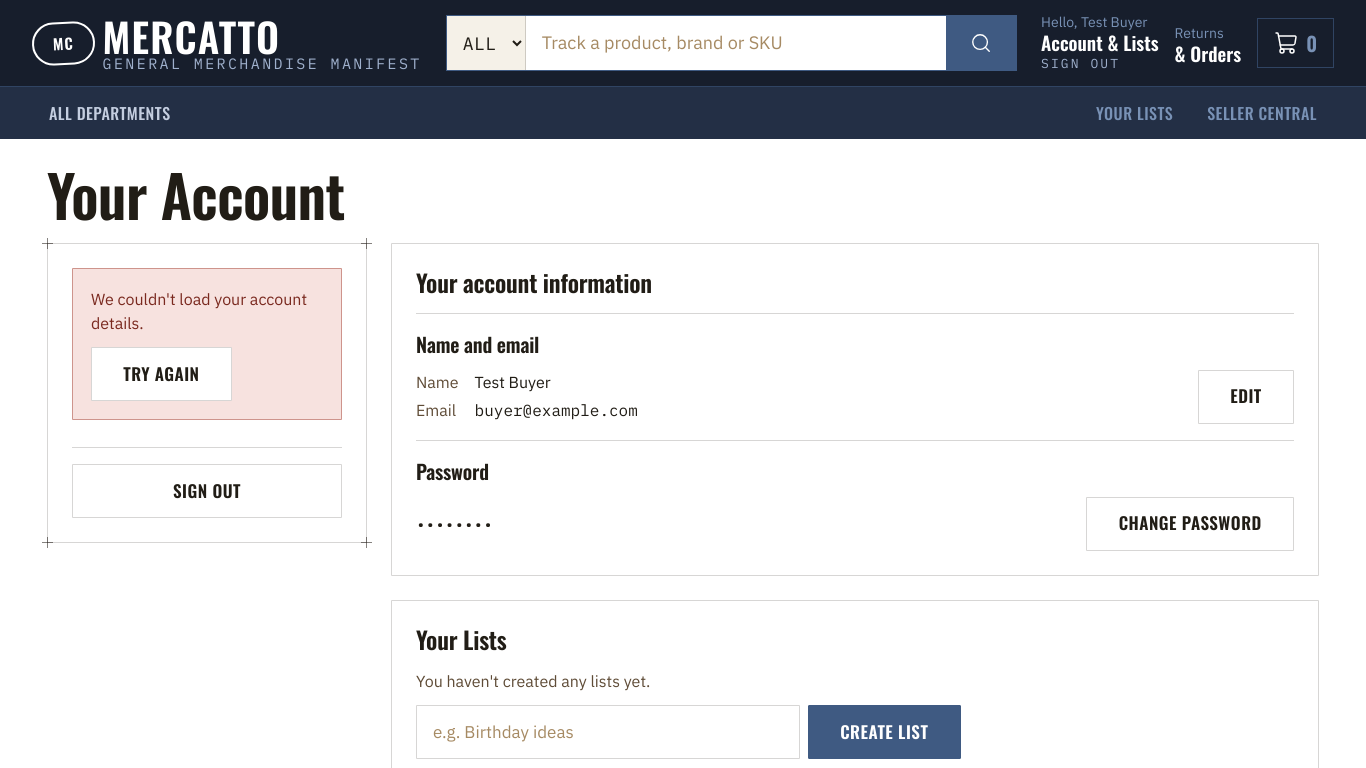
Test: Account page › shows an error when the profile fails to load and retries on demand
Expected: the message shows "We couldn't load your account details.", [91,289,307,333]
Expected: the button "Sign out" below "We couldn't load your account details." is shown, [72,464,342,518]
Click the button "Try again": (161, 374) [91,347,232,401]
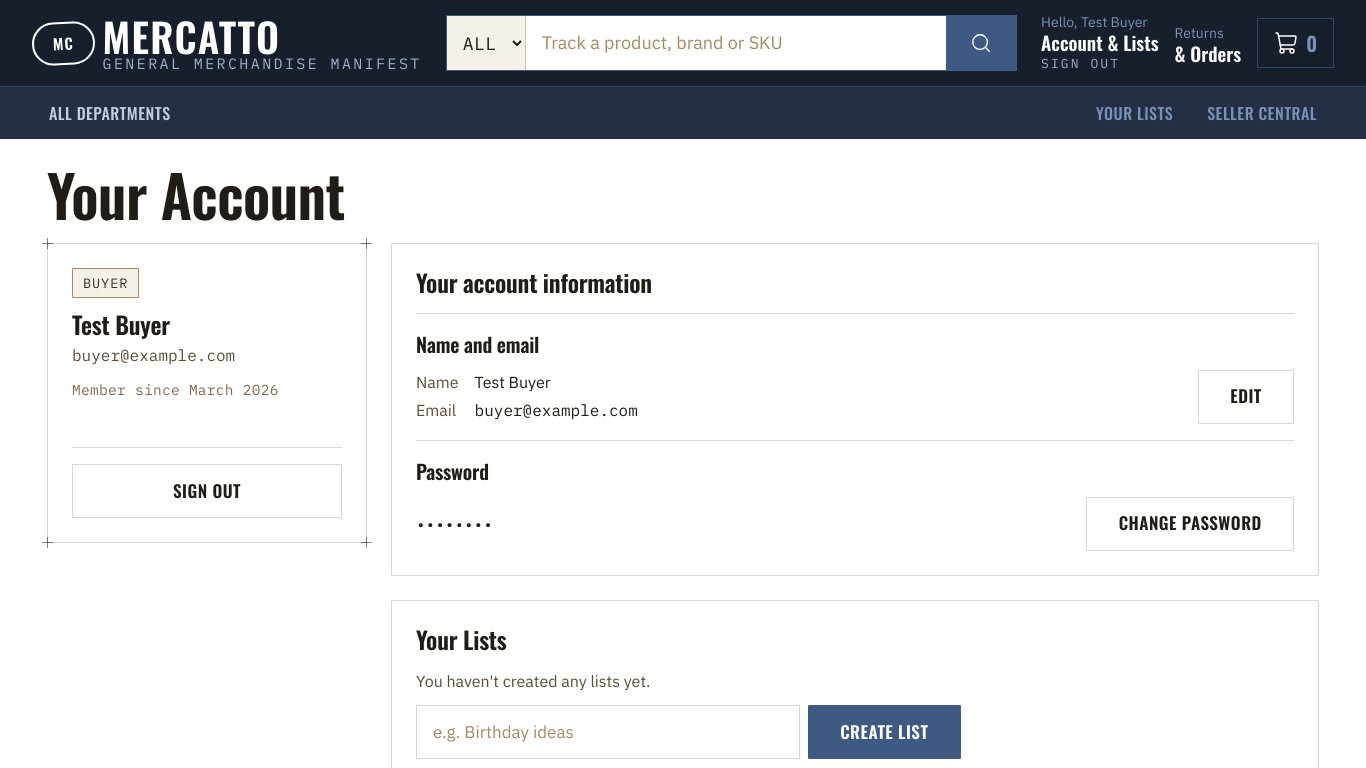
Result: the heading "Test Buyer" is shown at [72,306,170,342]
Result: the message "We couldn't load your account details. Try again" is gone
